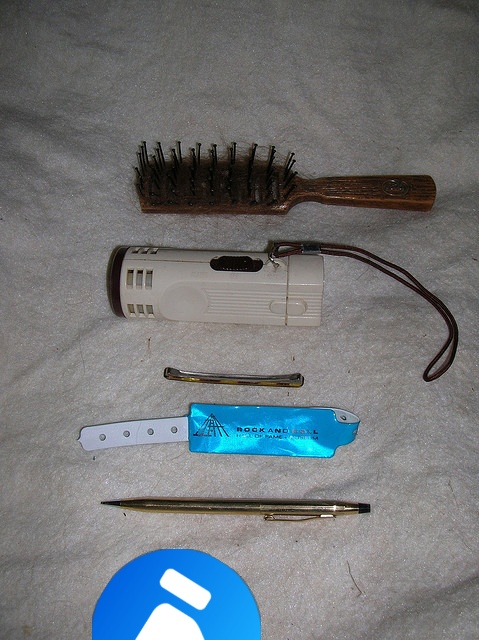like: (92, 549, 261, 640)
